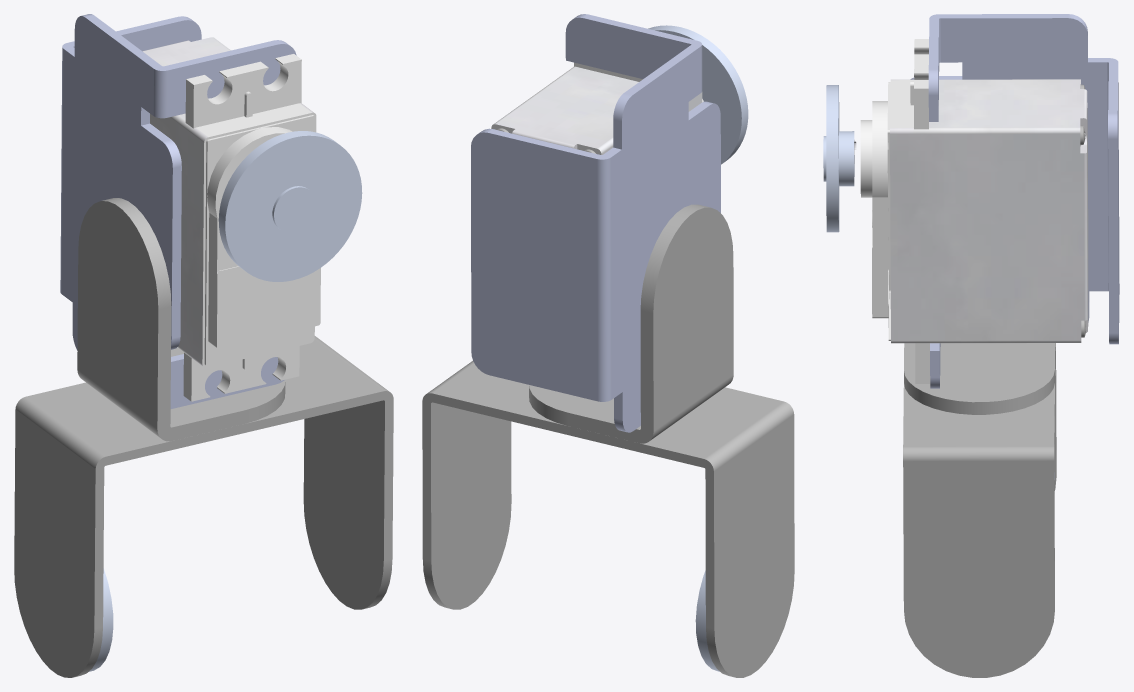
The model's file is r_forearmC_link.dae.
The picture shows the model from 3 angles, left to right: view 1: azimuth 30°, elevation 25°; view 2: azimuth 150°, elevation 25°; view 3: azimuth 270°, elevation 25°; orthographic projection. The views are drawn at different scales.
Parts seen in each view (by area): view 1: Actor0; view 2: Actor0; view 3: Actor0.
Boxes of the visible parts, x1,y1,x2,y2 form: Actor0: [14, 14, 393, 677]; Actor0: [422, 14, 794, 677]; Actor0: [823, 14, 1119, 677].
Bounding box in the file's own units: 0.0525 × 0.1013 × 0.0482.
Materials: 7 (2 with a texture image).
